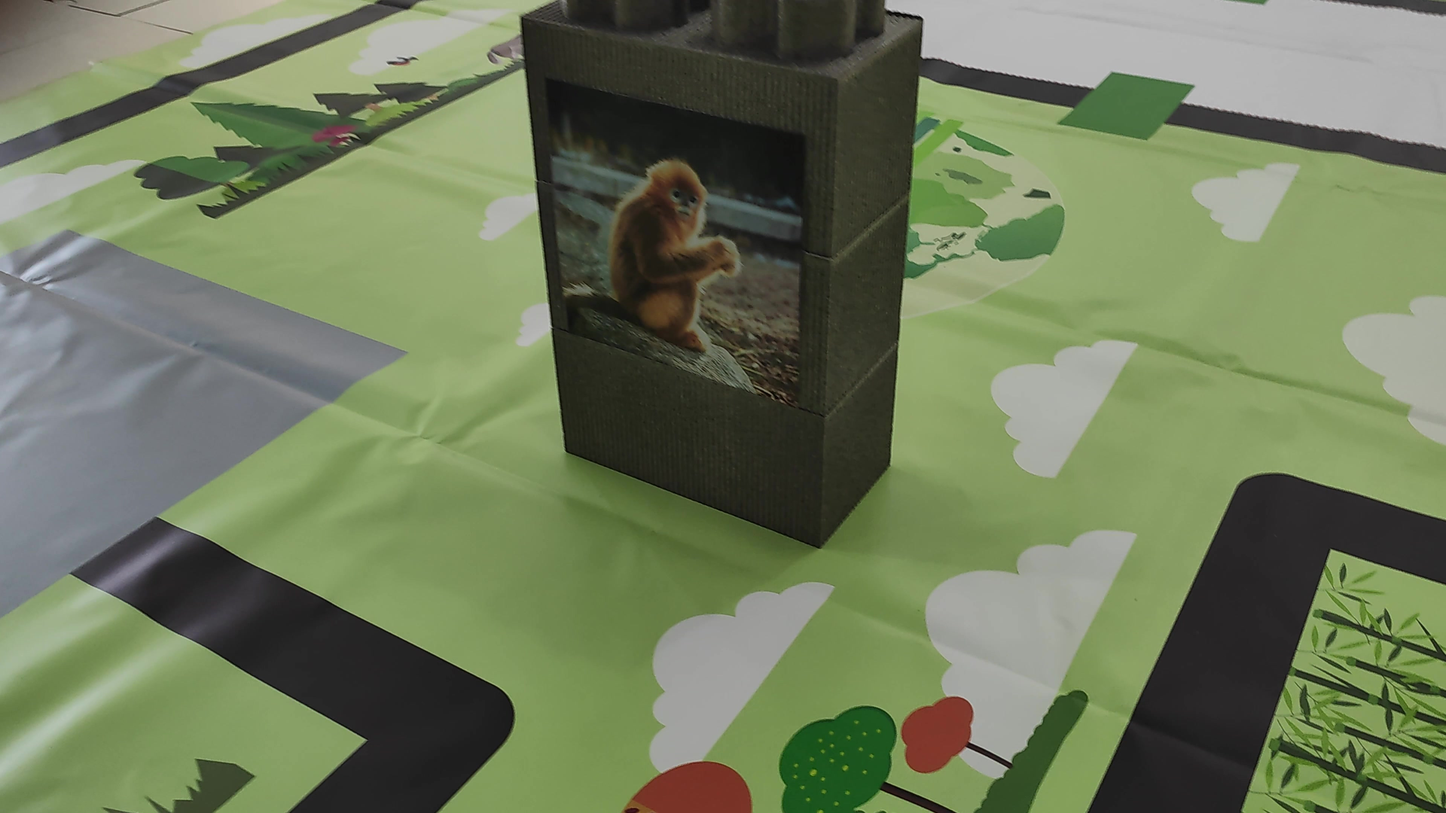monkey: (561, 115, 767, 341)
